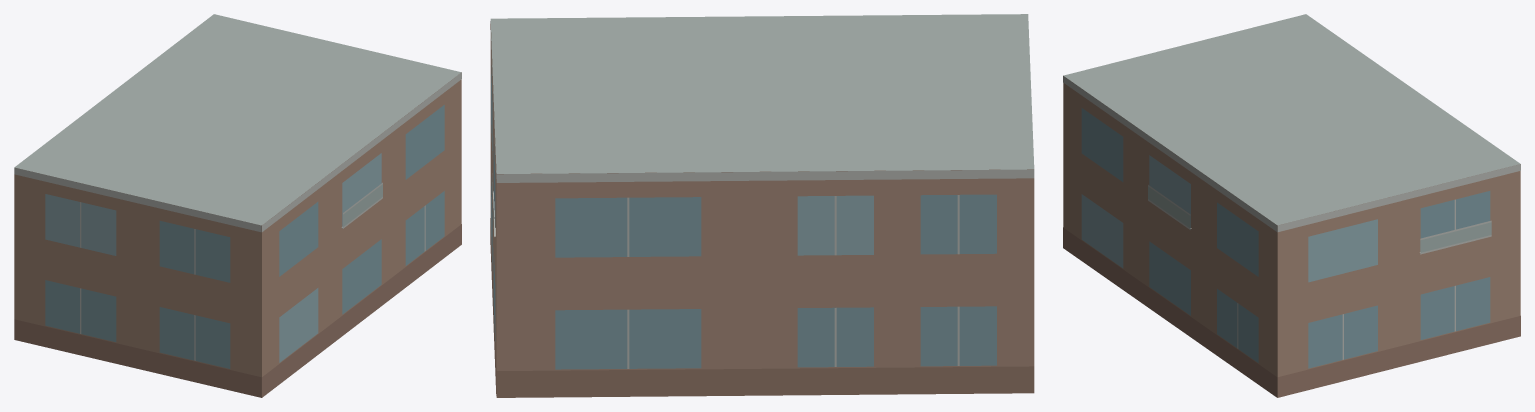
File: survey-upis-32674339.glb
3 views of the same model, side by side, from view 1: azimuth 30°, elevation 25°; view 2: azimuth 150°, elevation 25°; view 3: azimuth 270°, elevation 25° (orthographic). The views are drawn at different scales.
Visible parts, largest first — view 1: survey-upis-32674339.tmp; view 2: survey-upis-32674339.tmp; view 3: survey-upis-32674339.tmp.
Boxes of the visible parts, x1,y1,x2,y2 form: survey-upis-32674339.tmp: (14, 14, 461, 397); survey-upis-32674339.tmp: (490, 14, 1034, 397); survey-upis-32674339.tmp: (1063, 14, 1520, 397).
Size of the model in its own units: 16.05 by 6.1 by 14.68.
